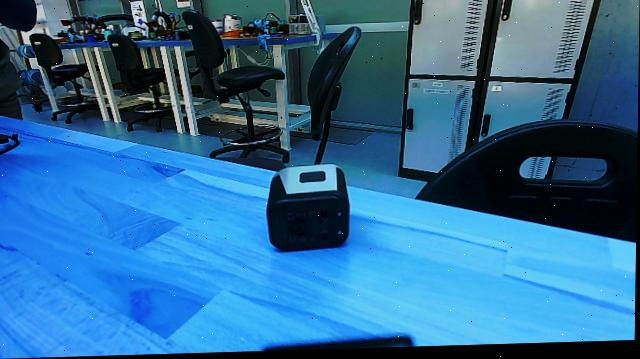adapter: (261, 161, 354, 259)
